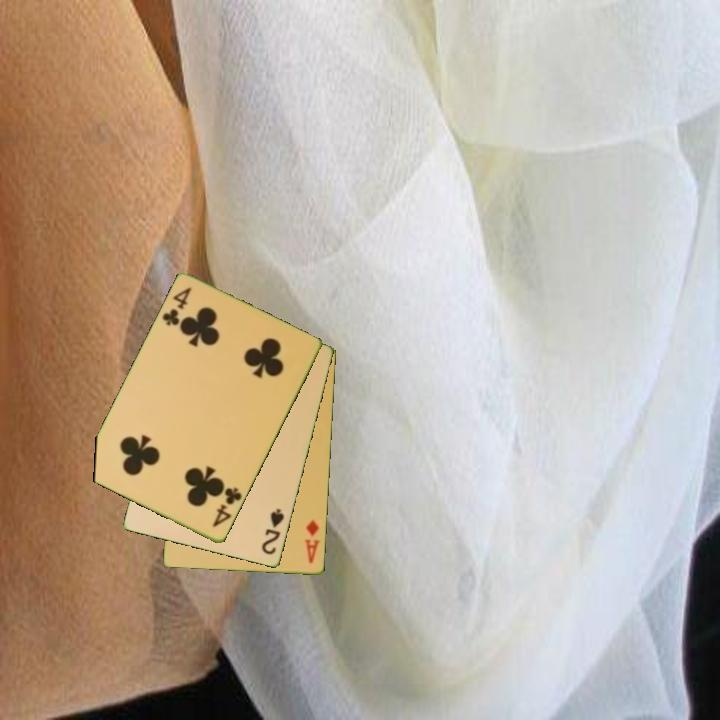2s: (258, 505, 287, 558)
4c: (209, 484, 245, 531), (159, 284, 194, 329)
Ad: (301, 517, 323, 566)
